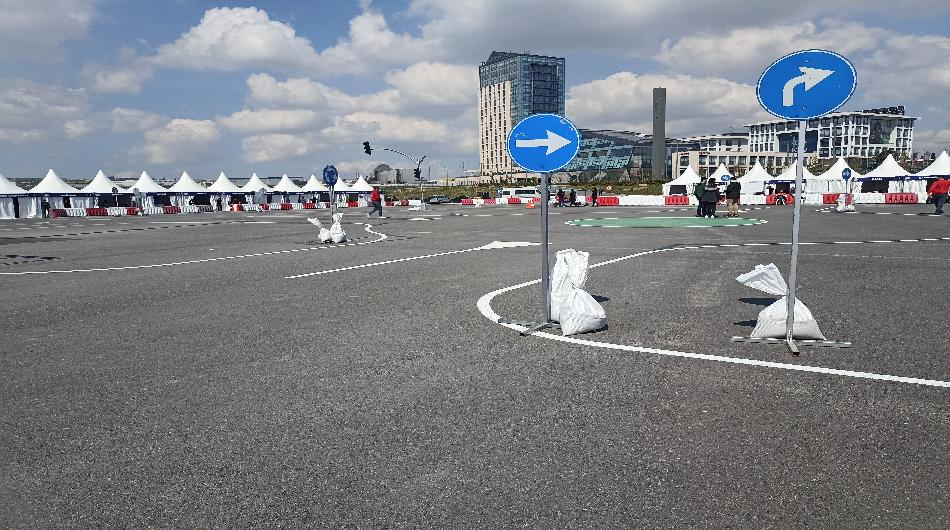saga_mecburi_1: (509, 112, 580, 174)
saga_mecburi_2: (758, 48, 856, 120)
